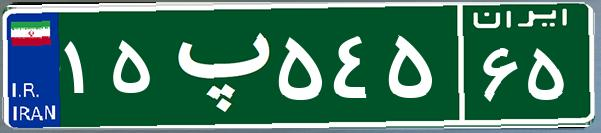1: (57, 26, 110, 107)
4: (330, 28, 385, 110)
5: (385, 28, 445, 110), (273, 28, 330, 110), (110, 28, 158, 105), (525, 38, 570, 115)
6: (475, 38, 525, 113)
پ: (158, 15, 273, 115)
